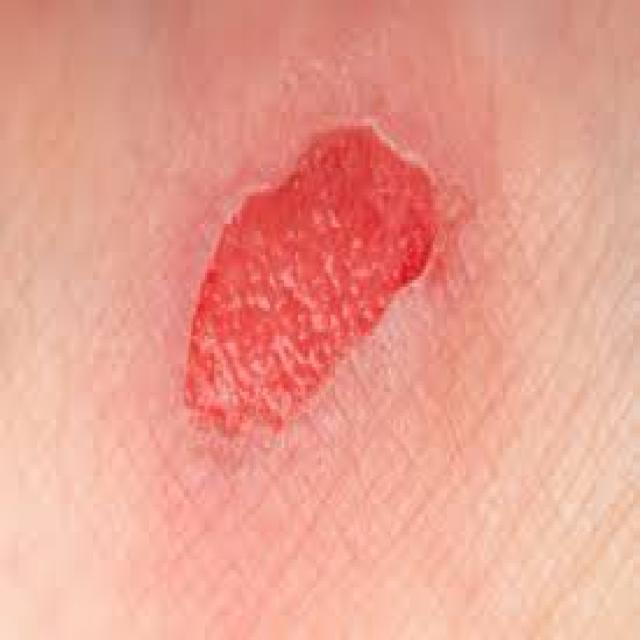stage-2: (183, 124, 442, 439)
